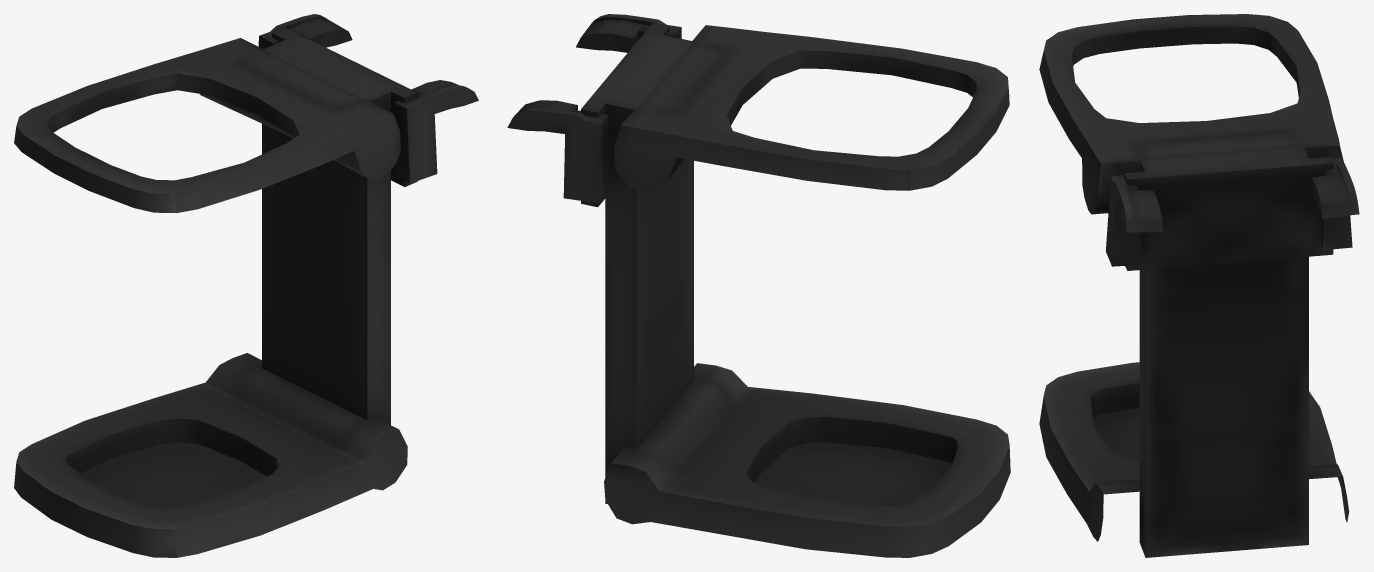
Rendered from Cup_Holder.glb.
The picture shows the model from 3 angles, left to right: view 1: azimuth 30°, elevation 25°; view 2: azimuth 150°, elevation 25°; view 3: azimuth 270°, elevation 25°; orthographic projection. The views are drawn at different scales.
Parts seen in each view (by area): view 1: Cup_Holder; view 2: Cup_Holder; view 3: Cup_Holder.
Part boxes in pixels (box(x1,y1,x2,y2)): Cup_Holder: box(14, 14, 478, 557); Cup_Holder: box(507, 14, 1010, 557); Cup_Holder: box(1039, 14, 1359, 557).
Bounding box in the file's own units: 0.2238 × 0.2025 × 0.1518.
Materials: 1 (1 with a texture image).
